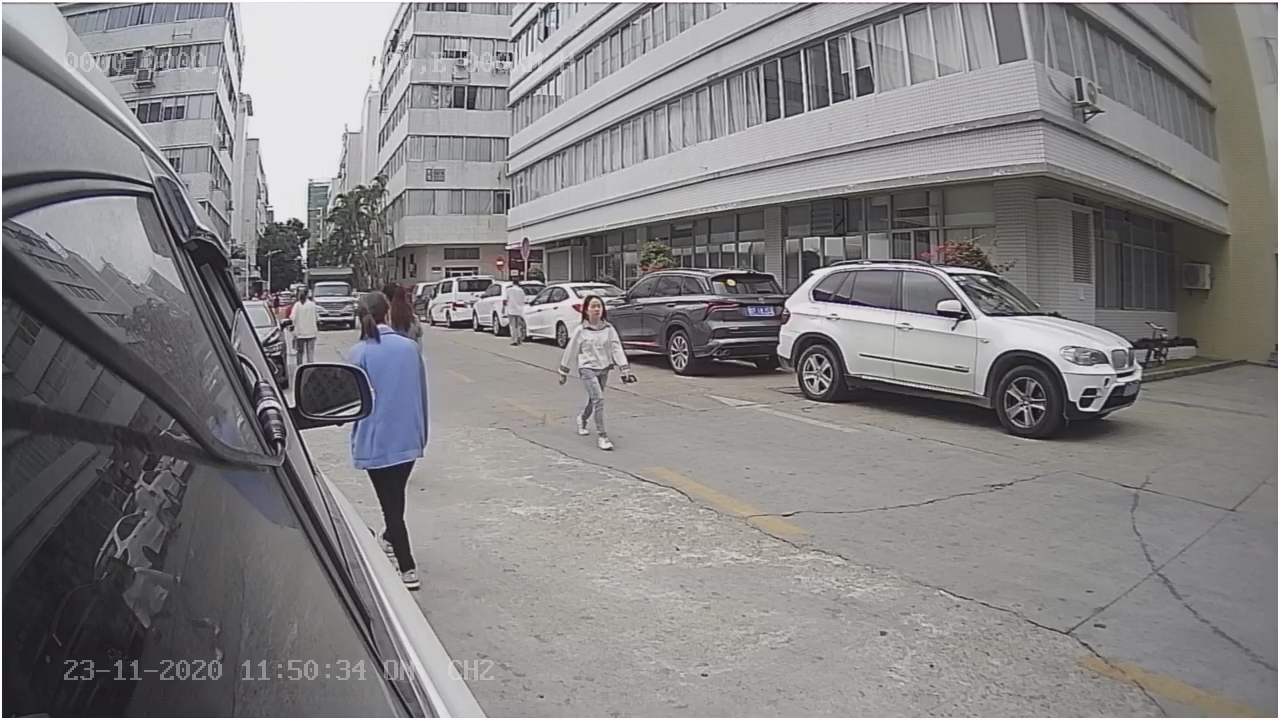person: (559, 291, 637, 451)
